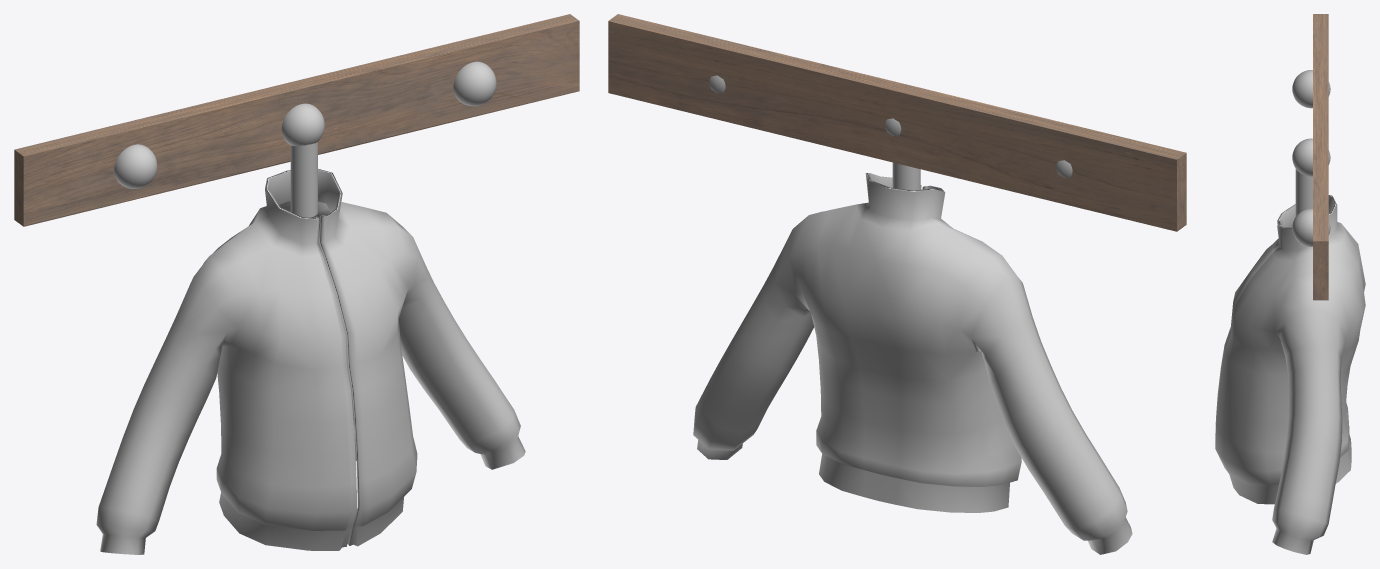
The model's file is ClothesLine.fbx.
3 renders of one model, left to right at view 1: azimuth 30°, elevation 25°; view 2: azimuth 150°, elevation 25°; view 3: azimuth 270°, elevation 25°, orthographic. The views are drawn at different scales.
Visible parts, largest first — view 1: LineButton1; view 2: LineButton1; view 3: LineButton1.
Part boxes in pixels (x1=…): LineButton1: x1=14, y1=14, x2=579, y2=554; LineButton1: x1=608, y1=14, x2=1186, y2=554; LineButton1: x1=1215, y1=14, x2=1365, y2=554.
Bounding box in the file's own units: 10.71 × 7.83 × 2.99.
